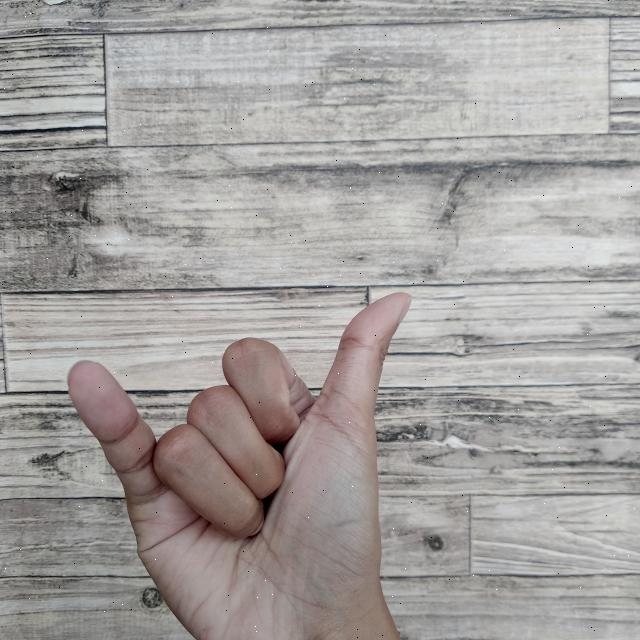Y: (54, 278, 422, 640)
